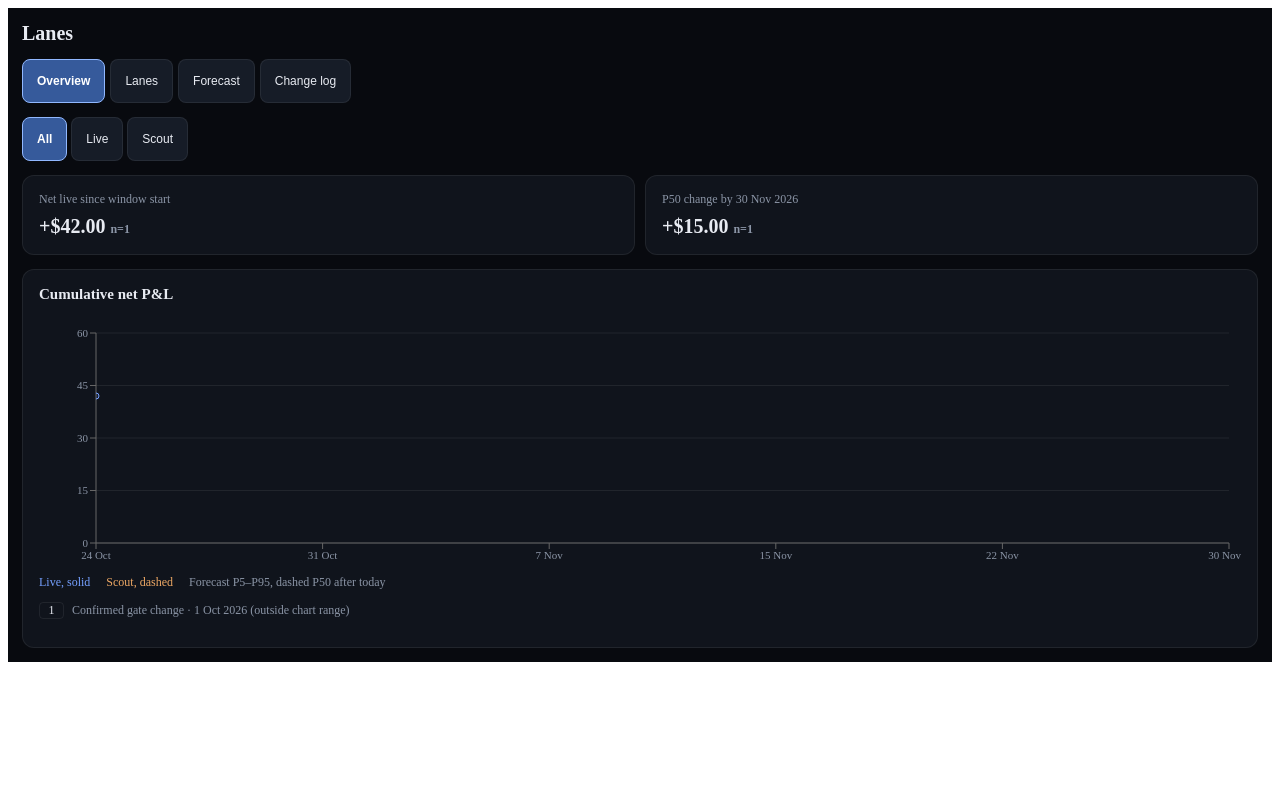
LanePerformanceView › switches the lane cards with the Live and Scout filters
This screenshot has width=1280, height=800.
Click the button "Lanes" at (142, 81), box top-left (110, 59), bottom-right (173, 103)
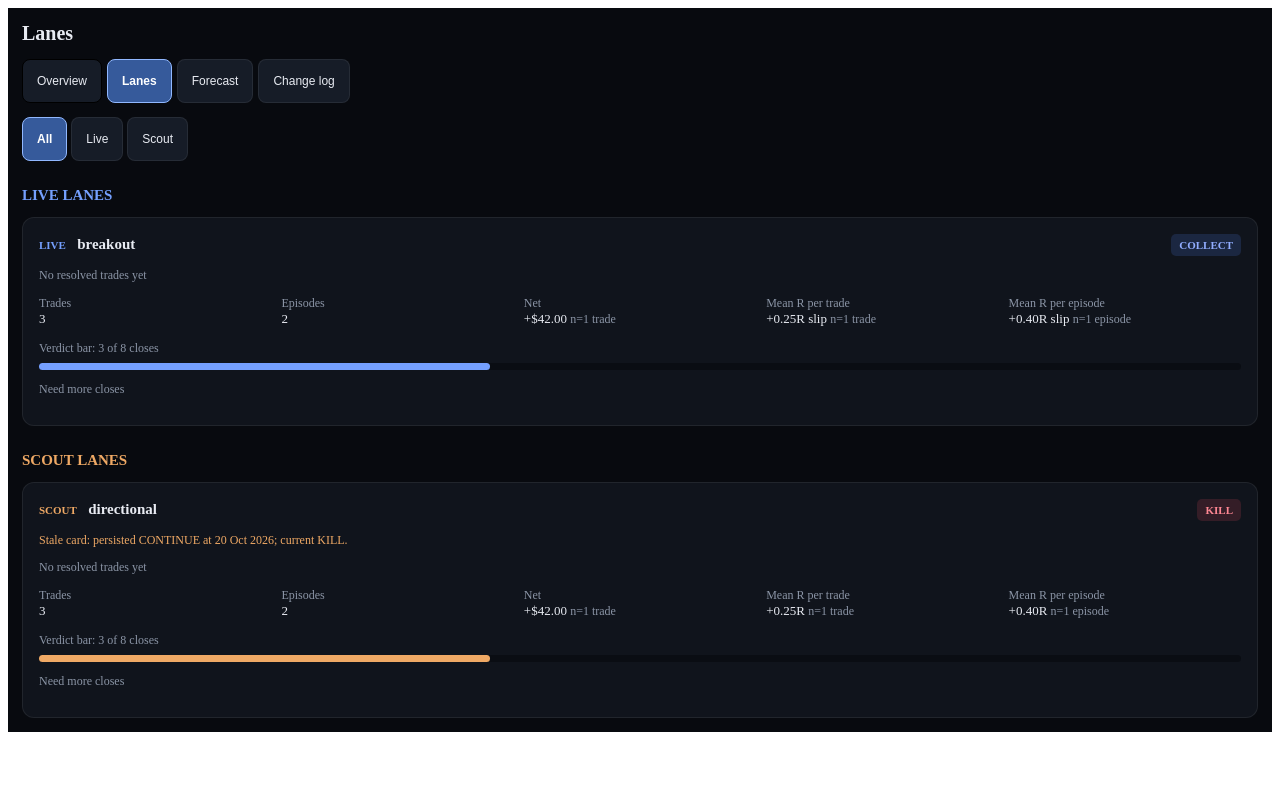
Click the button "Live" at (97, 139), box top-left (71, 117), bottom-right (123, 161)
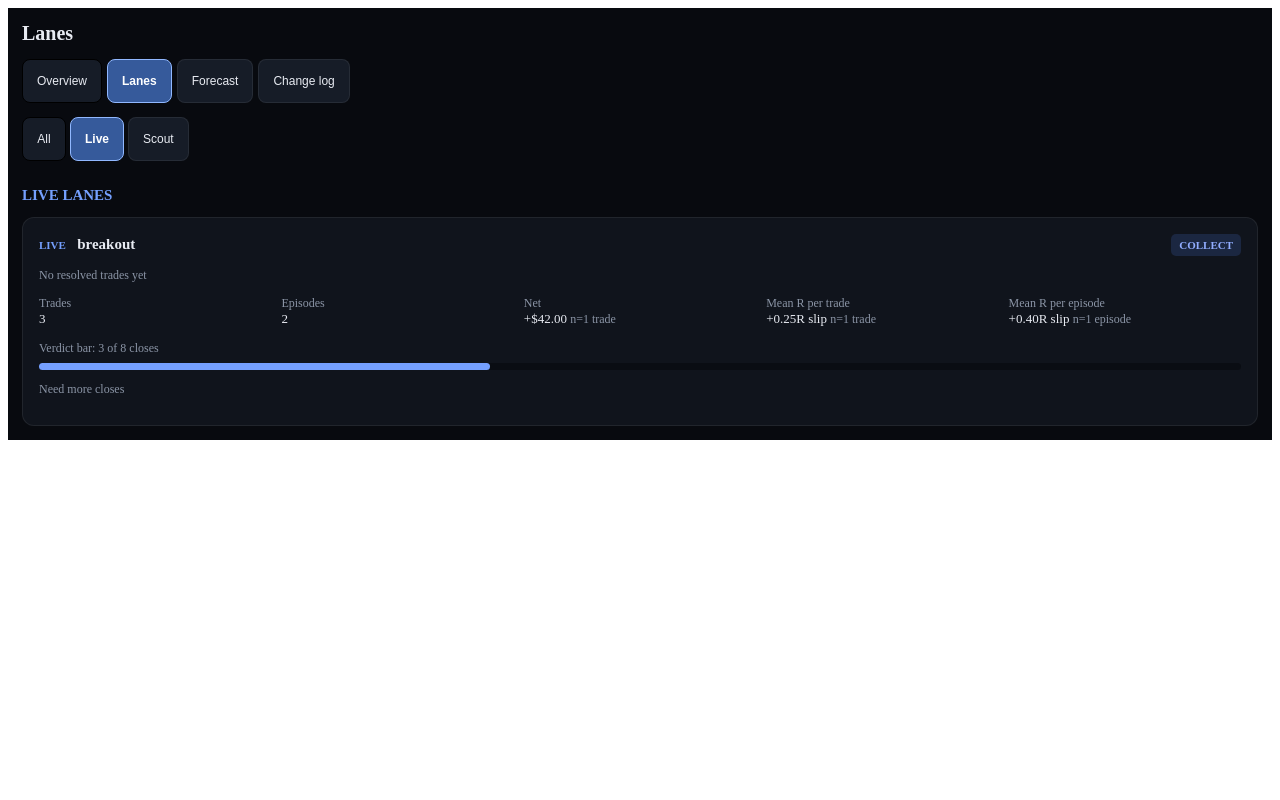
Now the text "breakout" is shown, box top-left (77, 236), bottom-right (135, 252)
Now the number of elements with test id "lane-card" is 1, box top-left (22, 217), bottom-right (1258, 426)
Now the text "directional" is gone
Click the button "Scout" at (158, 139), box top-left (128, 117), bottom-right (189, 161)
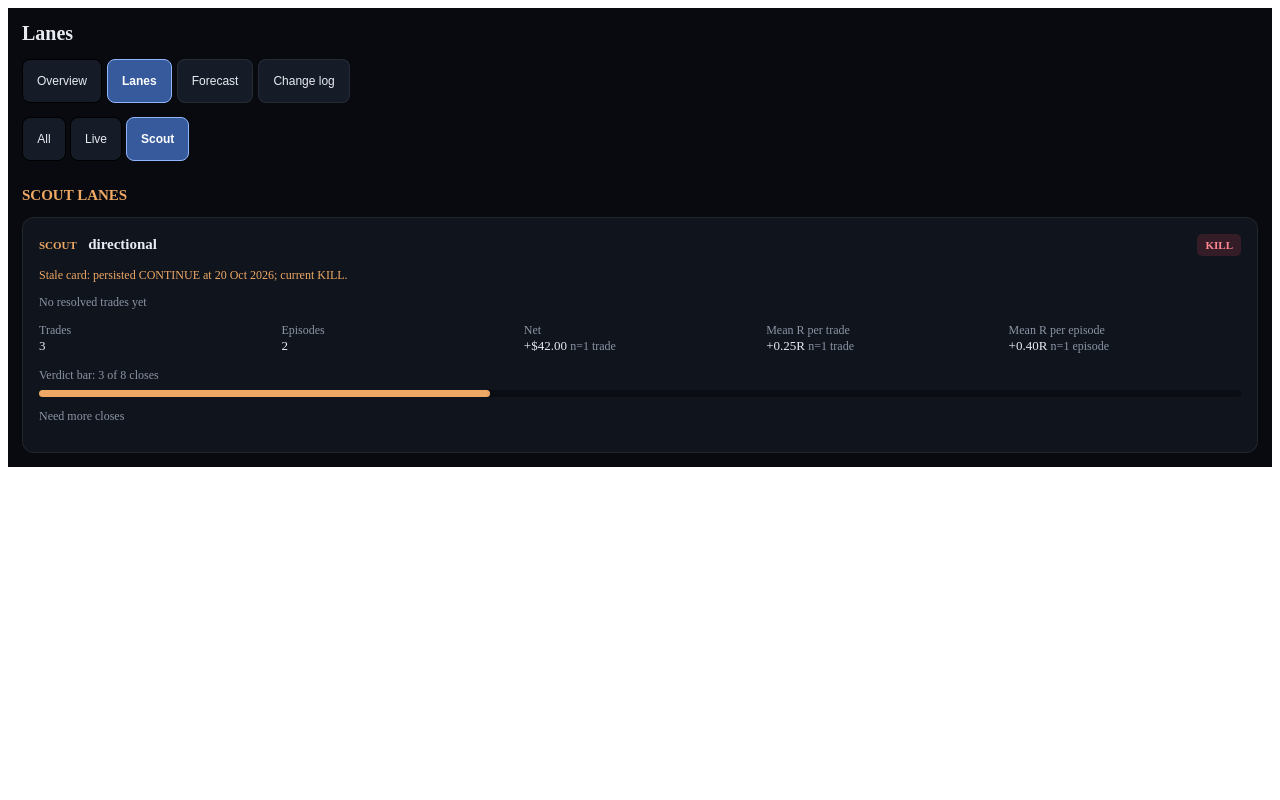
Now the number of elements with test id "lane-card" is 1, box top-left (22, 217), bottom-right (1258, 453)
Now the text "directional" is shown, box top-left (88, 236), bottom-right (157, 252)
Now the text "breakout" is gone
